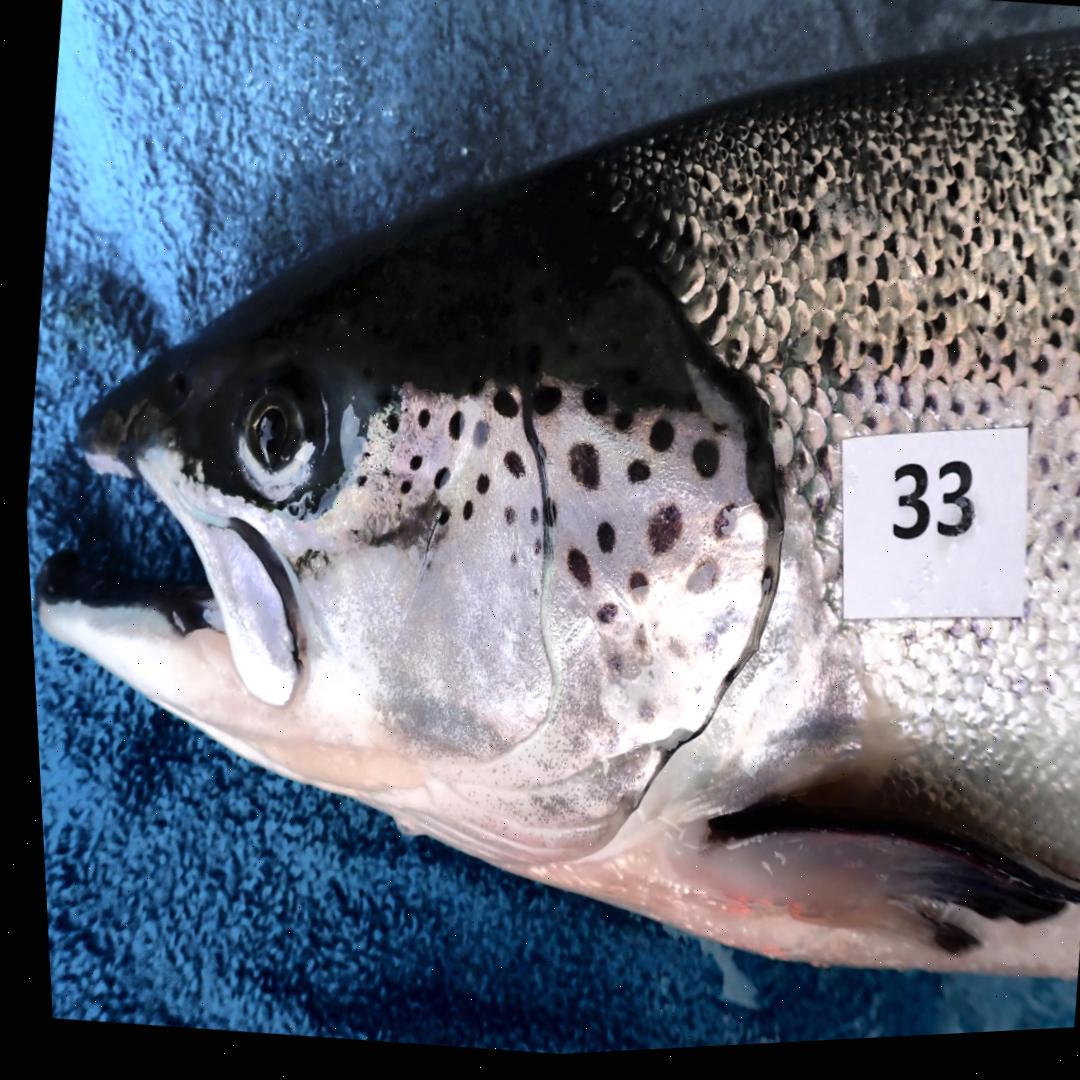spot: (641, 510, 677, 561), (563, 448, 594, 495), (678, 565, 710, 602), (706, 509, 734, 546), (686, 446, 713, 484), (527, 389, 557, 422), (560, 554, 585, 593), (644, 425, 669, 458), (578, 393, 604, 423), (621, 577, 643, 612), (487, 395, 514, 422), (370, 464, 394, 490), (497, 456, 520, 483), (591, 528, 609, 560), (589, 606, 611, 630), (622, 466, 644, 490), (466, 425, 485, 451), (443, 415, 459, 444), (753, 575, 767, 604), (522, 539, 538, 563), (609, 416, 627, 437), (539, 503, 552, 532), (428, 471, 444, 494), (380, 413, 395, 436), (626, 631, 639, 657), (395, 478, 409, 500), (471, 477, 484, 498), (413, 412, 425, 432), (403, 458, 417, 475), (431, 512, 445, 529), (497, 511, 510, 529), (523, 511, 534, 531), (456, 505, 467, 525), (601, 663, 613, 678), (502, 555, 511, 570), (351, 479, 361, 490), (357, 454, 363, 462)
